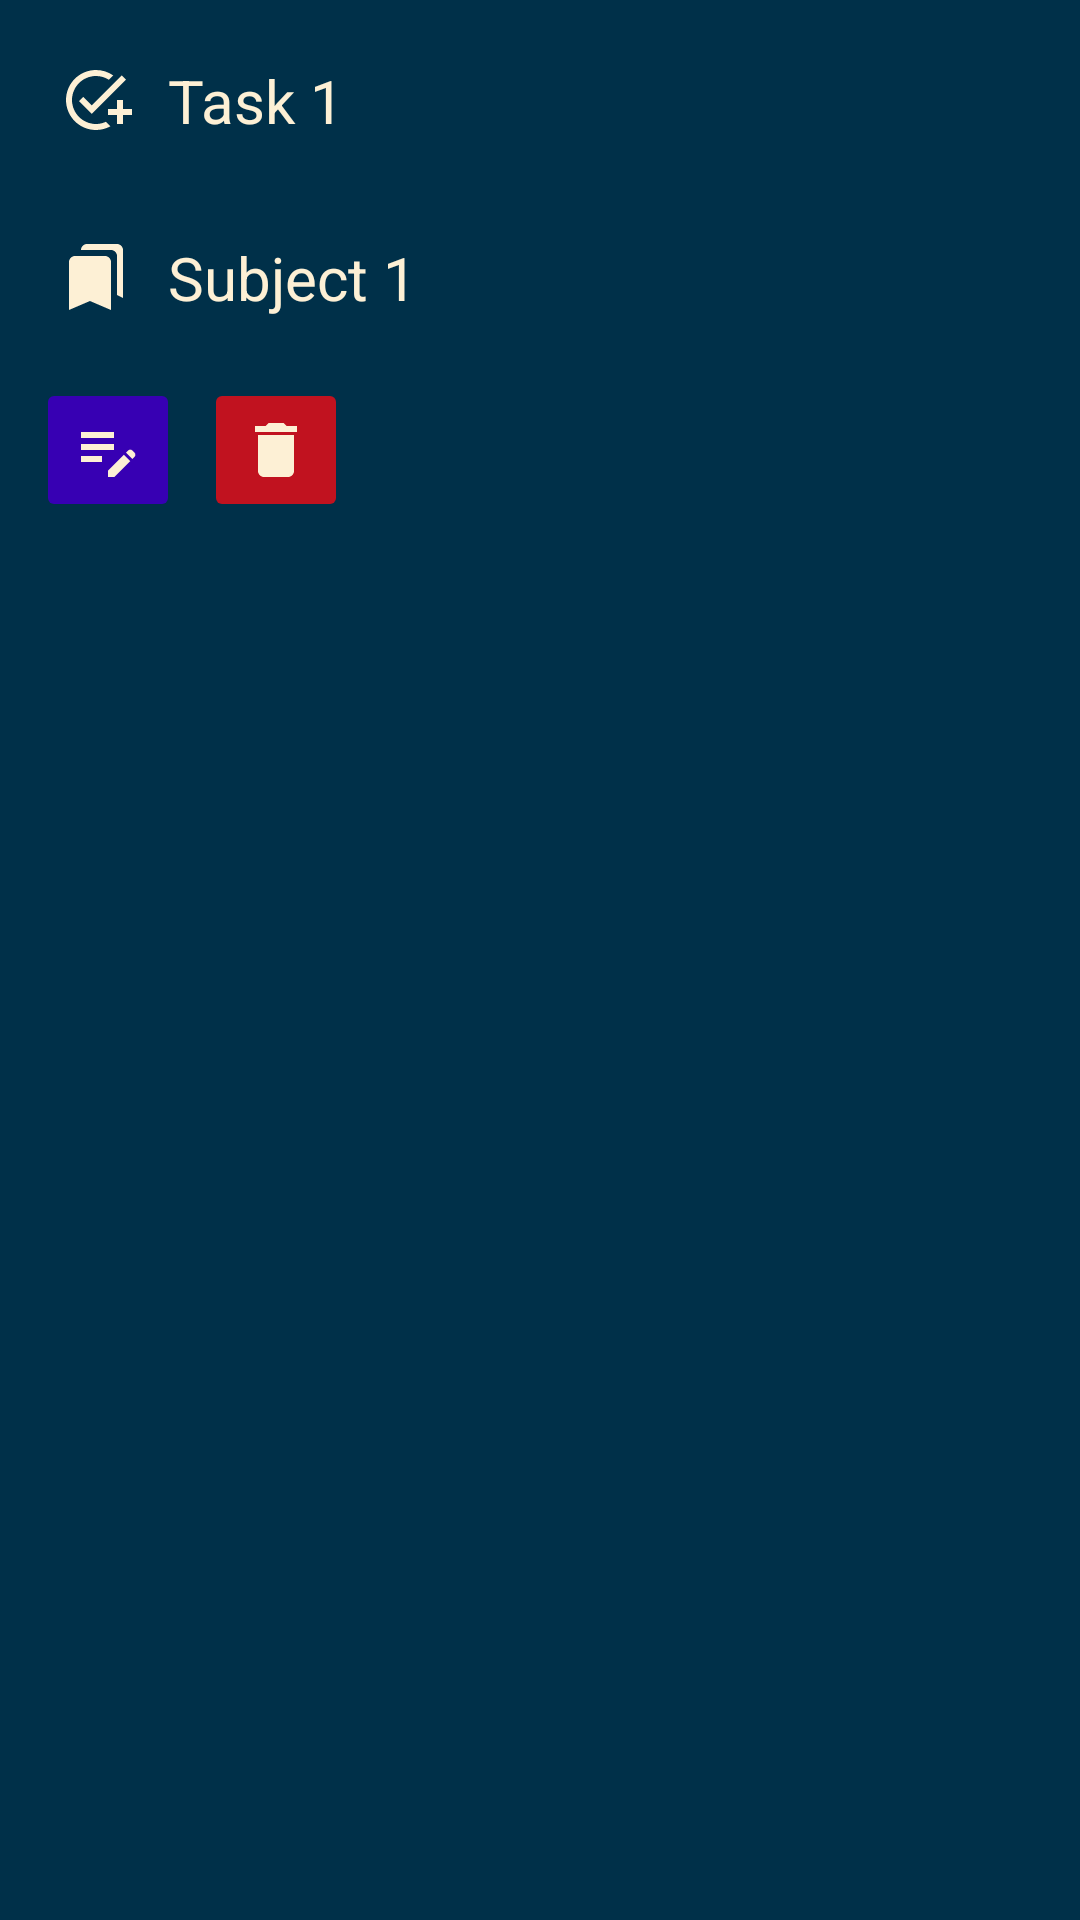

Icon bounding boxes for this 1080w x 1920h phone screenshot, format (x1, y1, x2, y2):
delete: (216, 396, 336, 504)
edit note: (48, 396, 168, 504)
